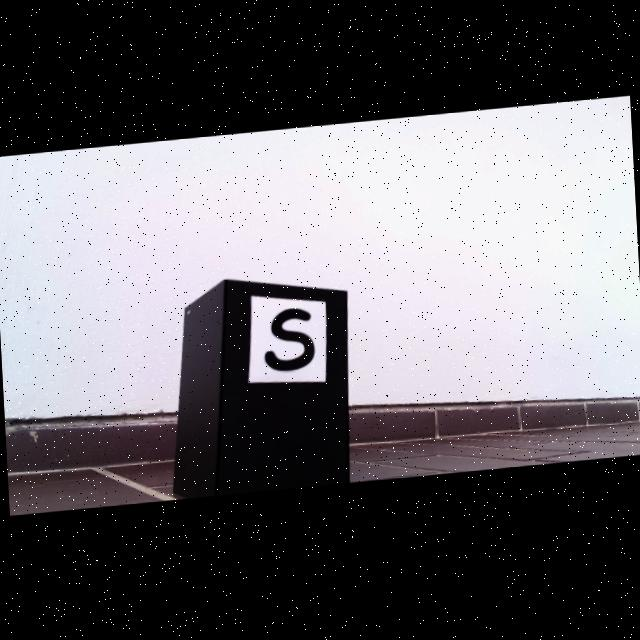S: (265, 312, 315, 375)
